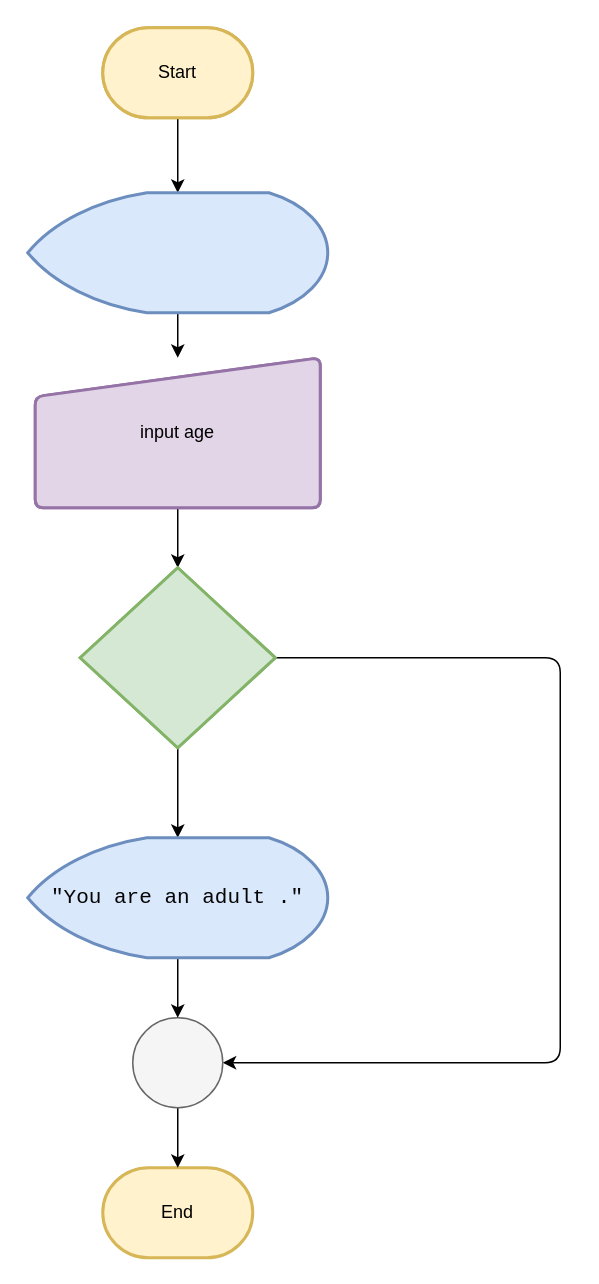
This 599x1284 diagram has some shape labels left out. The shapes that lost their labels are listed below. From the top down, each one's box as (x1, y1, x2, y2) in pixels, then its label:
(26, 190, 328, 314): "input age"
(78, 566, 276, 748): age >= 18
